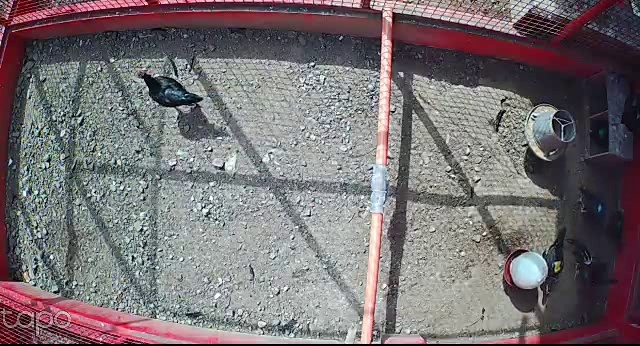Chicken: (131, 63, 205, 111), (540, 224, 569, 303)
Drinker: (501, 249, 550, 289)
Feeder: (524, 103, 578, 162)
Rooster: (565, 237, 620, 284)
Saddle_Color_Yellow: (552, 260, 562, 272)
